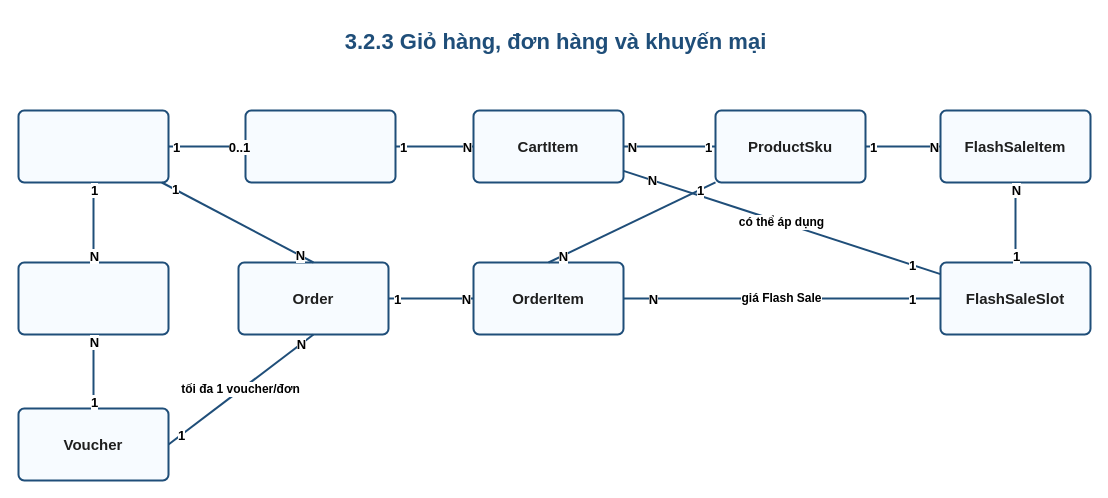
Image size: 1108x498. Some labels were removed from this diagram. Each missing label, with the centre of its shape:
"Cart" goes at (x=320, y=146).
"User" goes at (x=93, y=146).
"UserVoucher" goes at (x=93, y=298).
